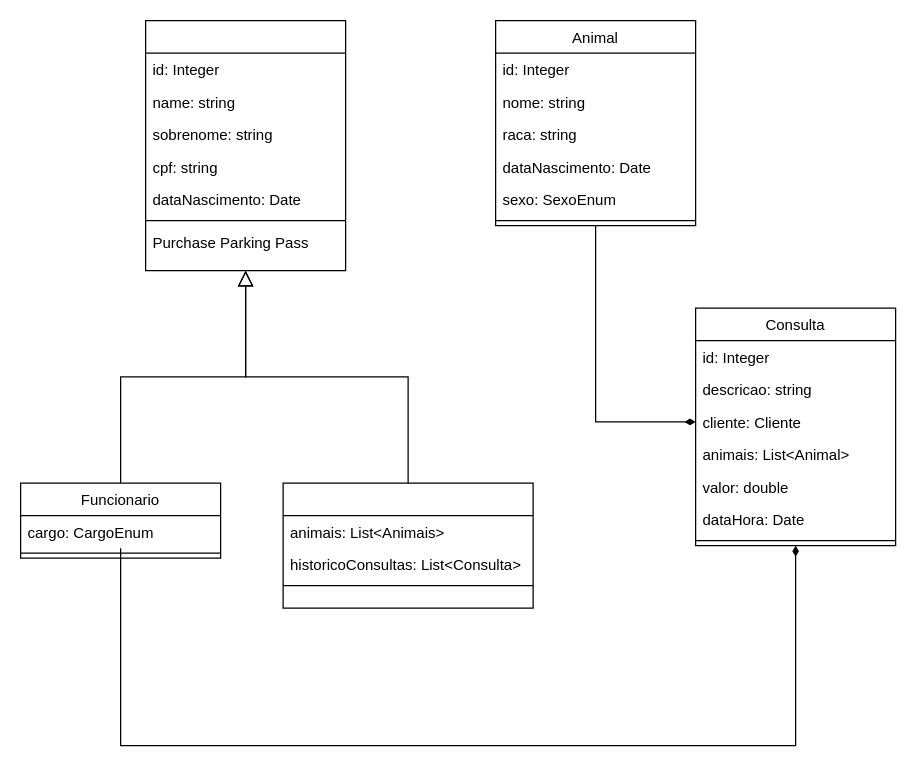
Image size: 916x766. Some labels were removed from this diagram. Here are the shapes that lost their labels. From the top down, the box of each, then its label:
(144, 19, 346, 271): Pessoa
(282, 482, 533, 608): Cliente
